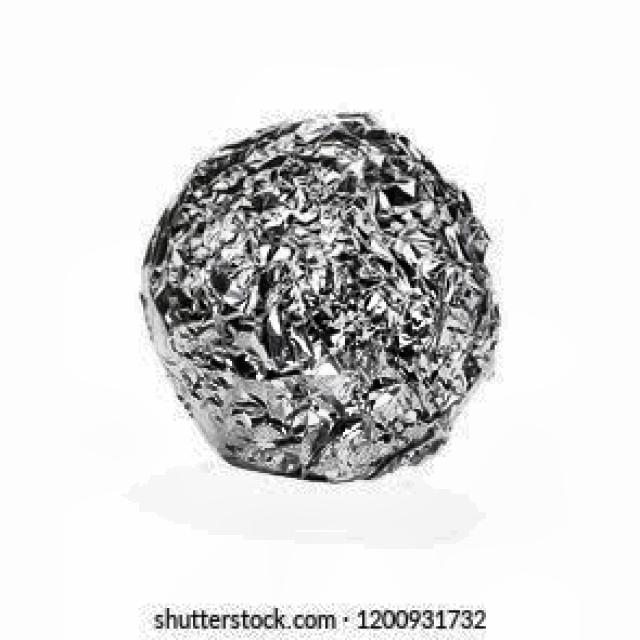Foil: (126, 102, 511, 488)
